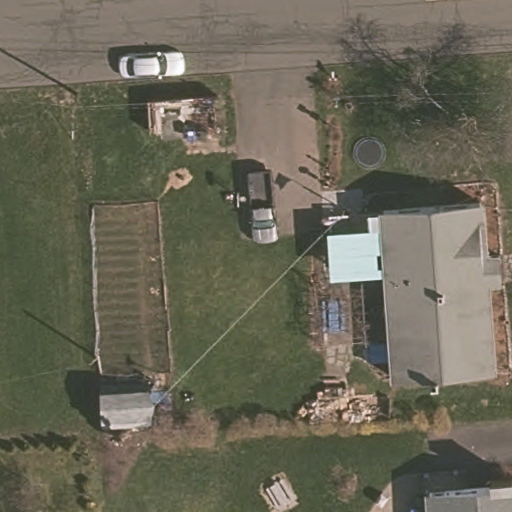DT: (56, 88, 83, 141)
